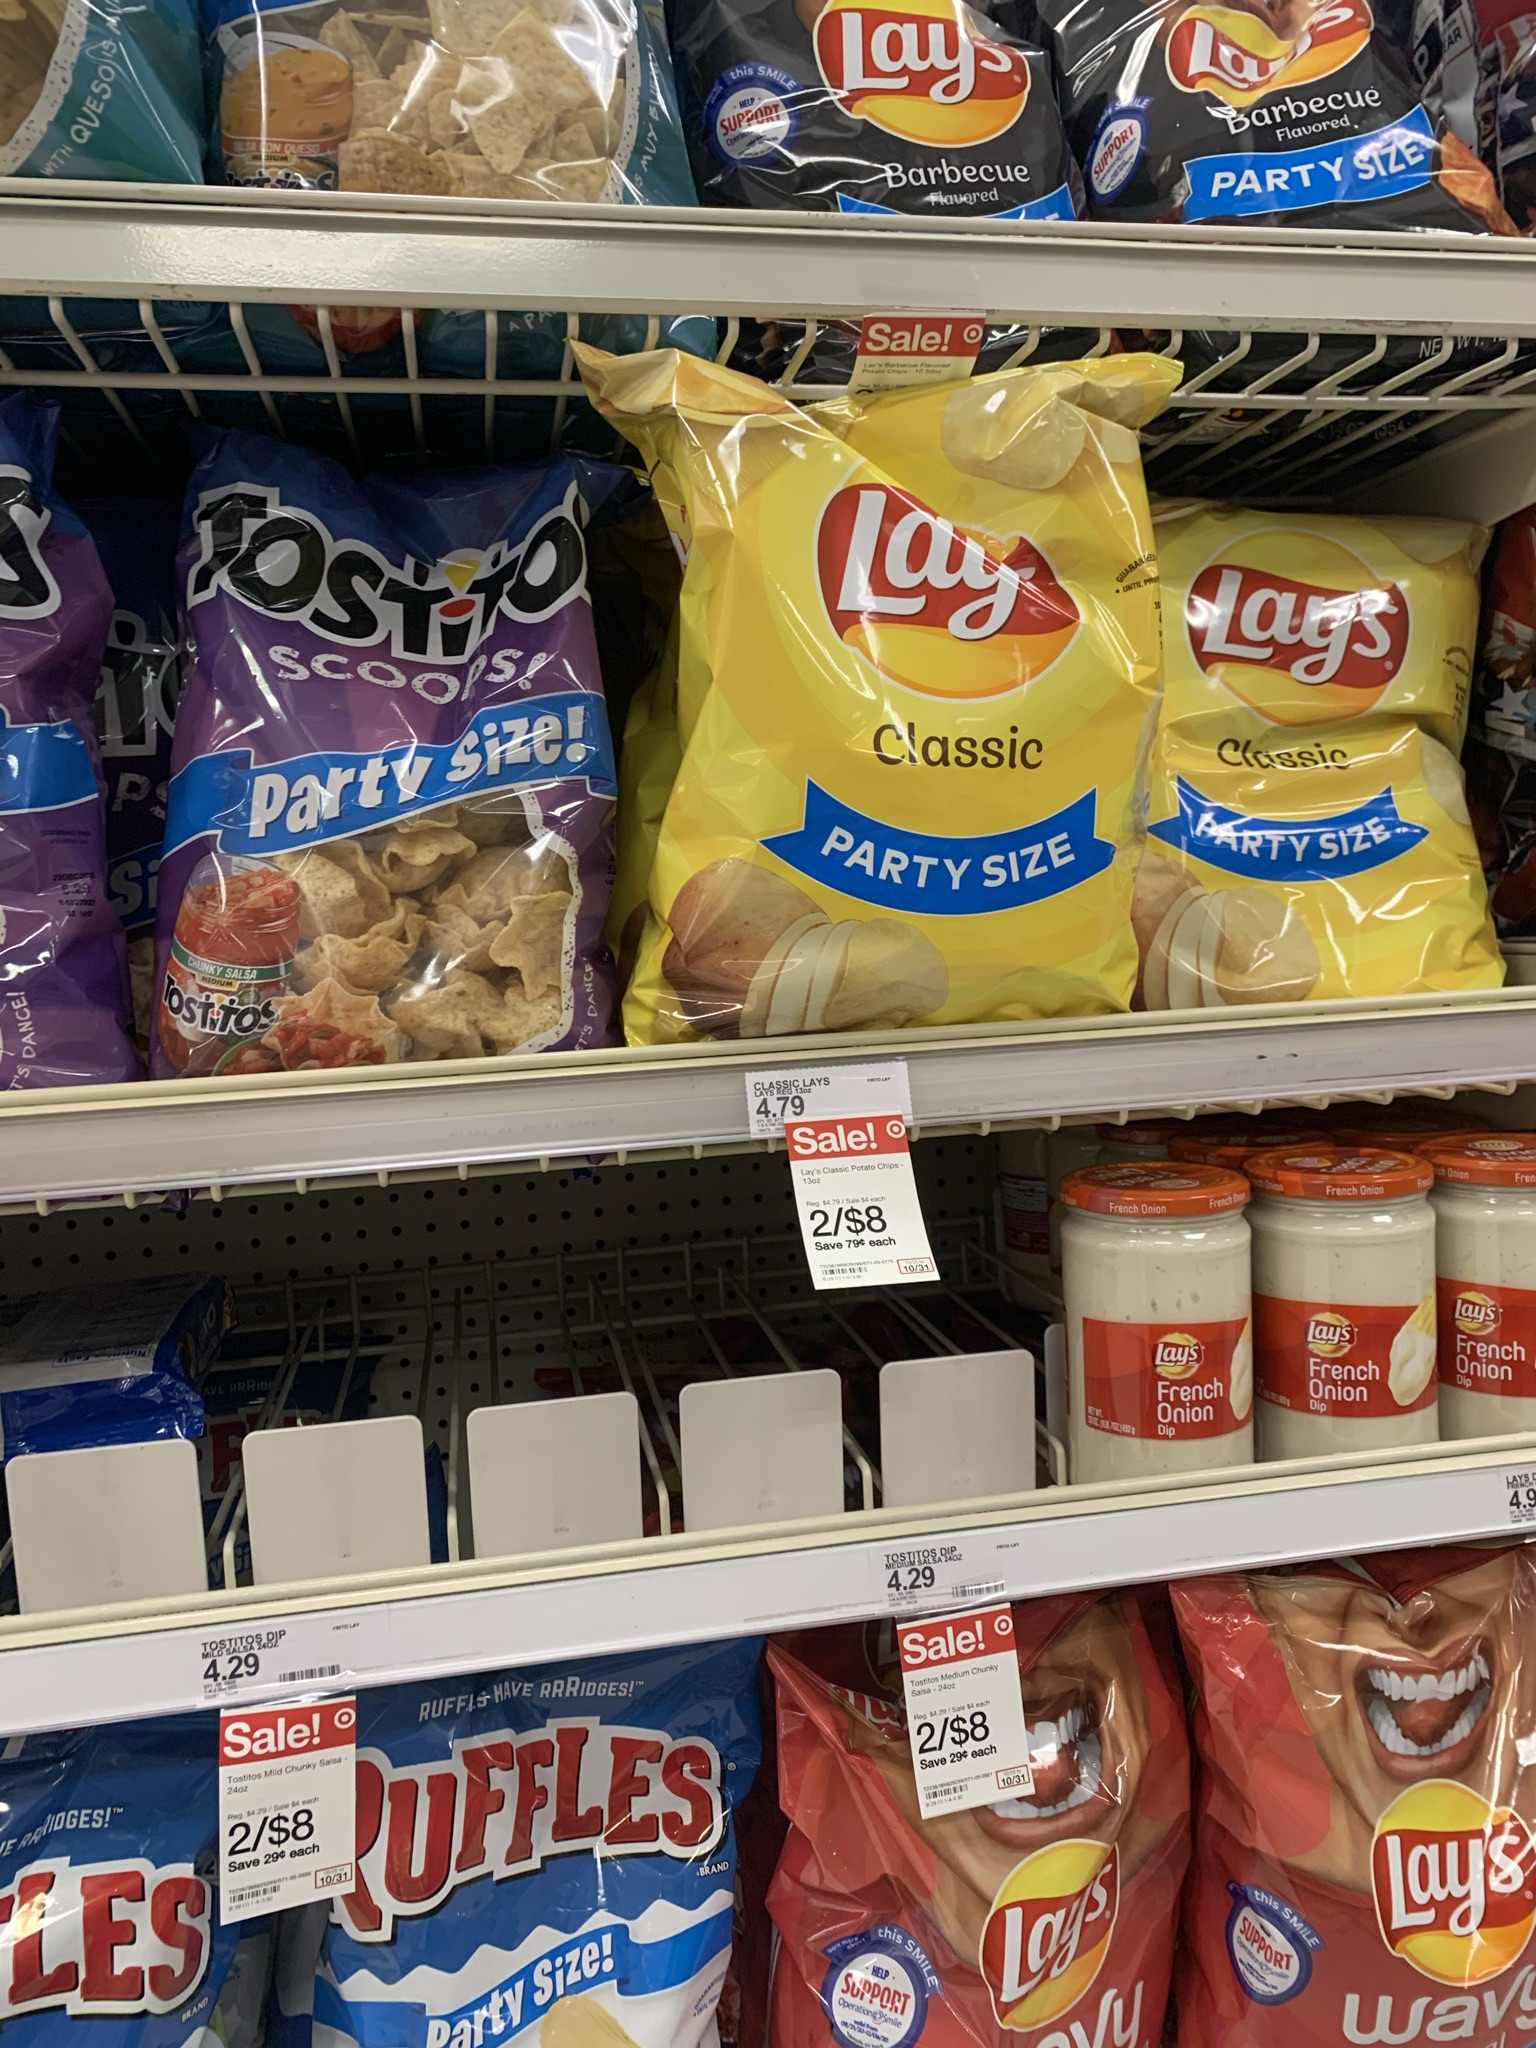Chips: (165, 432, 616, 1055), (1146, 487, 1512, 995), (762, 1643, 1173, 2048), (1175, 1588, 1536, 2048)
